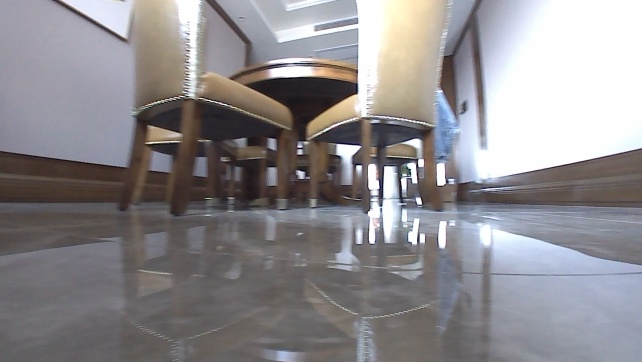dining_table: (115, 0, 457, 216)
